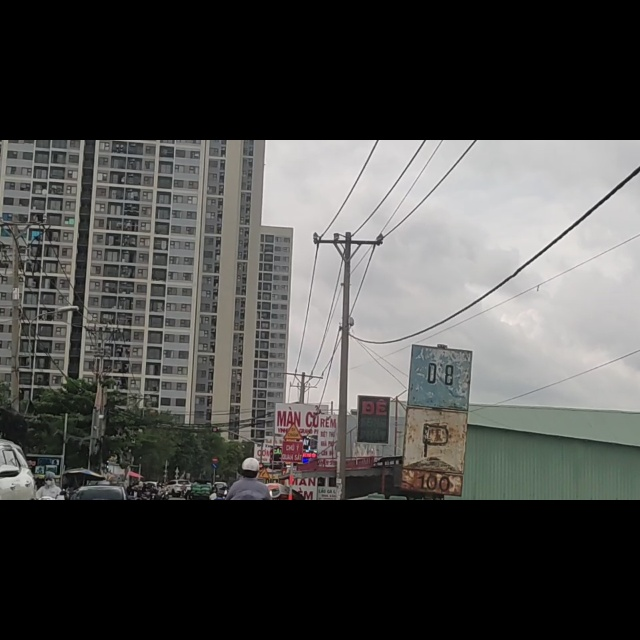bien_nguy_hiem: (281, 503, 303, 532)
